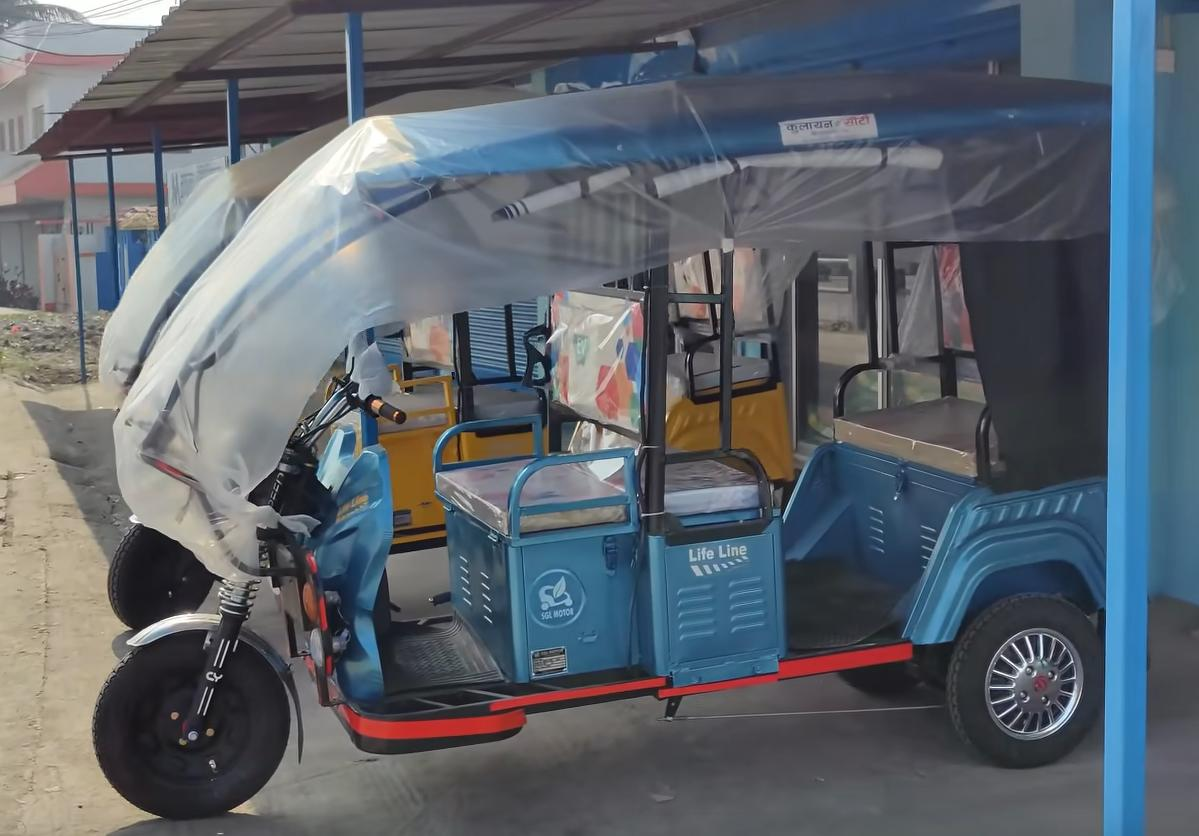e-rickshaw: (94, 50, 1158, 836)
